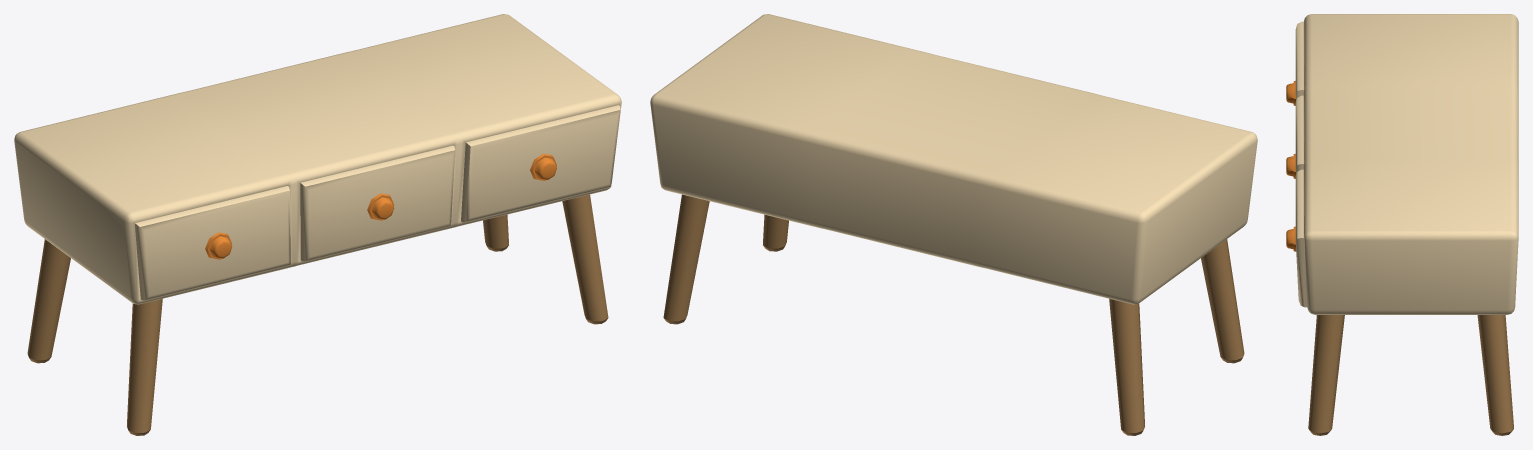
File: Wardrobe_1V.fbx
3 views of the same model, side by side, from view 1: azimuth 30°, elevation 25°; view 2: azimuth 150°, elevation 25°; view 3: azimuth 270°, elevation 25° (orthographic). The views are drawn at different scales.
Parts seen in each view (by area): view 1: Wardrobe_1V, Wardrobe_1V Door_3, Wardrobe_1V Door_2, Wardrobe_1V Door_1; view 2: Wardrobe_1V; view 3: Wardrobe_1V, Wardrobe_1V Door_3, Wardrobe_1V Door_1, Wardrobe_1V Door_2.
Part boxes in pixels (x1,y1,x2,y2): Wardrobe_1V: (14, 14, 621, 435); Wardrobe_1V Door_3: (461, 105, 620, 222); Wardrobe_1V Door_2: (300, 145, 455, 261); Wardrobe_1V Door_1: (134, 186, 290, 300); Wardrobe_1V: (650, 14, 1257, 435); Wardrobe_1V: (1303, 14, 1518, 435); Wardrobe_1V Door_3: (1286, 169, 1307, 307); Wardrobe_1V Door_1: (1286, 21, 1303, 105); Wardrobe_1V Door_2: (1286, 95, 1303, 178).
Size of the model in its own units: 1.48 by 0.6477 by 0.6526.
